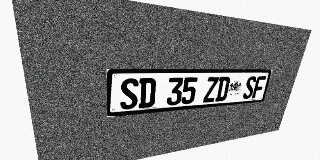3: (166, 77, 184, 106)
5: (181, 77, 198, 105)
D: (138, 78, 156, 108), (215, 77, 231, 102)
F: (252, 76, 266, 98)
S: (120, 78, 139, 110), (242, 76, 257, 99)
Z: (203, 77, 219, 103)
